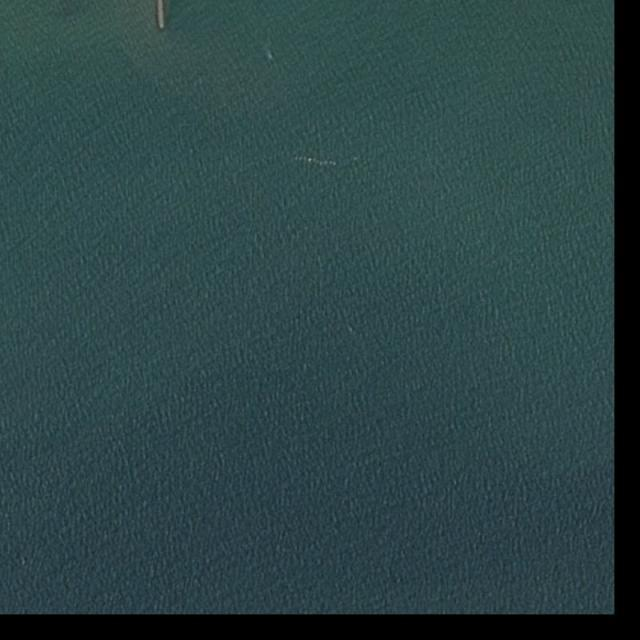ship: (334, 151, 358, 168), (269, 53, 274, 58)
